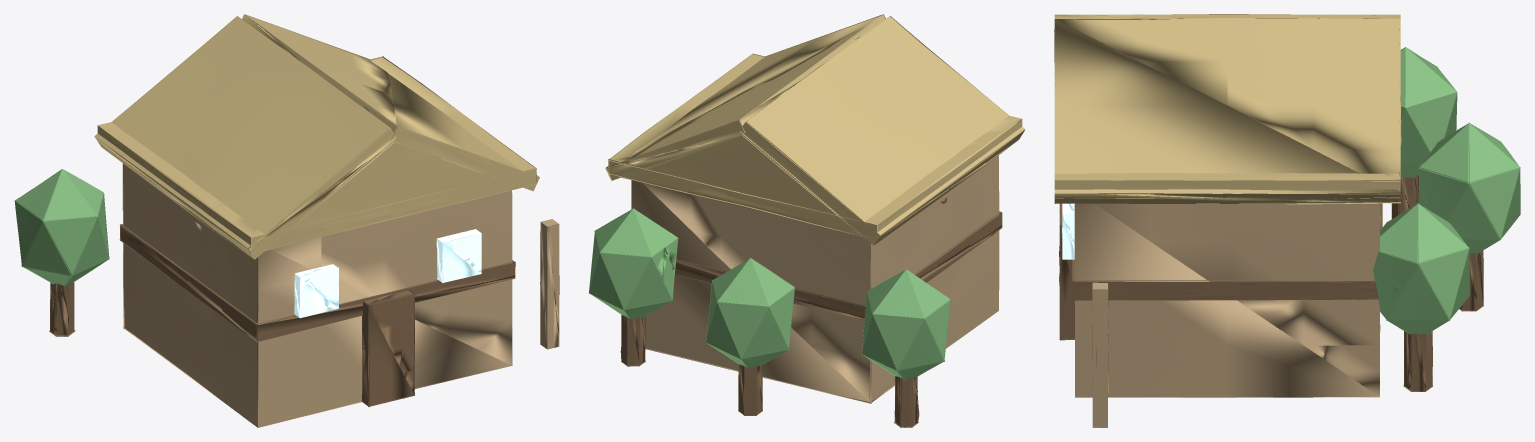
Rendered from forester.glb.
3 renders of one model, left to right at view 1: azimuth 30°, elevation 25°; view 2: azimuth 150°, elevation 25°; view 3: azimuth 270°, elevation 25°, orthographic. The views are drawn at different scales.
Parts seen in each view (by area): view 1: ForesterWall; view 2: ForesterWall; view 3: ForesterWall.
Part boxes in pixels (x1,y1,x2,y2): ForesterWall: [14, 14, 559, 427]; ForesterWall: [588, 14, 1025, 427]; ForesterWall: [1054, 14, 1520, 427].
Size of the model in its own units: 2.04 by 1.36 by 1.84.
